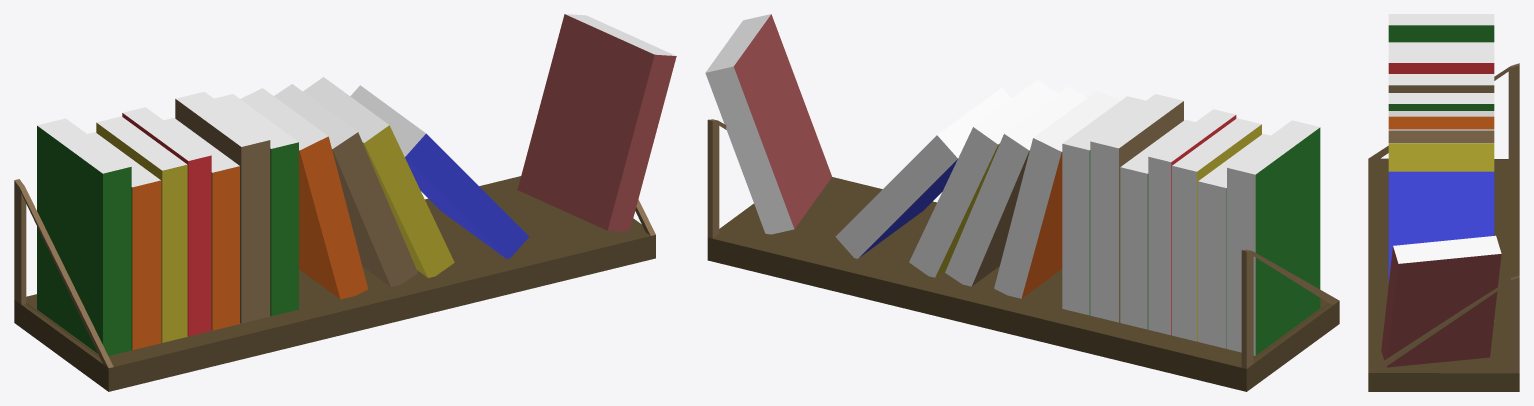
File: Scaffale.glb
The picture shows the model from 3 angles, left to right: view 1: azimuth 30°, elevation 25°; view 2: azimuth 150°, elevation 25°; view 3: azimuth 270°, elevation 25°; orthographic projection. The views are drawn at different scales.
Visible parts, largest first — view 1: WallBookshelf; view 2: WallBookshelf; view 3: WallBookshelf.
Boxes of the visible parts, bbox=[...] form: WallBookshelf: bbox=[14, 14, 676, 391]; WallBookshelf: bbox=[705, 14, 1339, 391]; WallBookshelf: bbox=[1368, 14, 1519, 391].
Size of the model in its own units: 5.75 by 1.94 by 1.6.
1 material, 1 textured.
